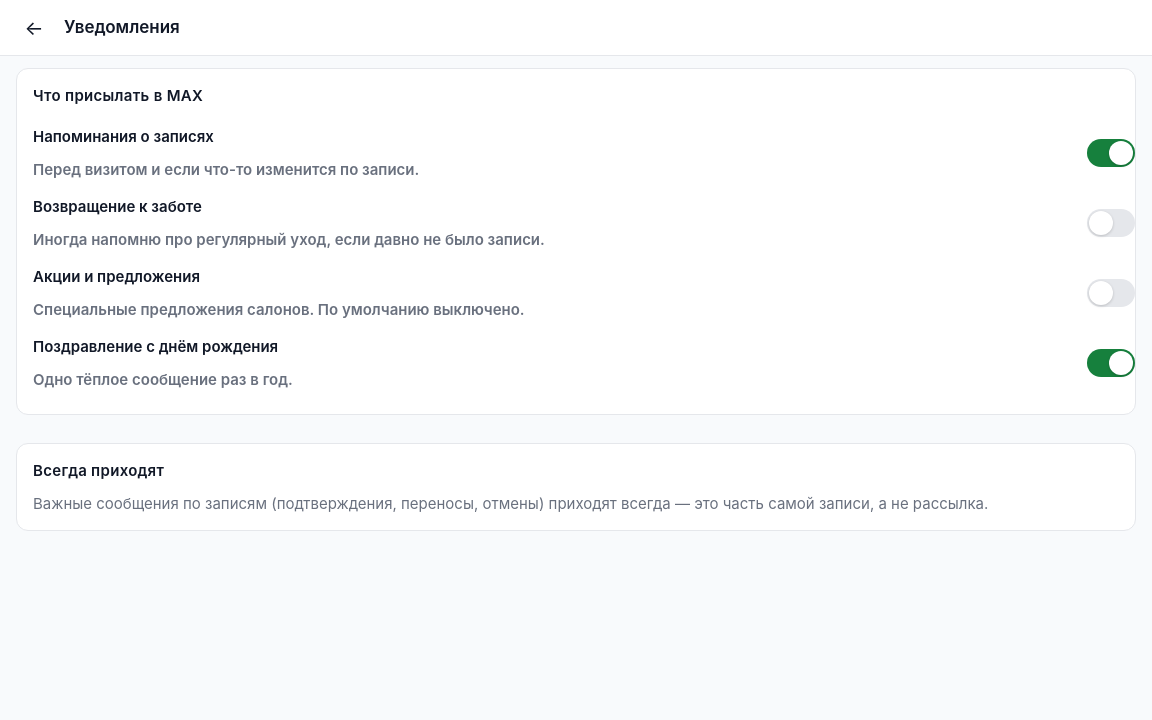
CustomerNotificationSettingsScreen (#948) › save failure reverts the switch and shows an honest snackbar
The width and height of the screenshot is (1152, 720).
Click the switch named "Акции и предложения": (1103, 293) [1079,271,1127,315]
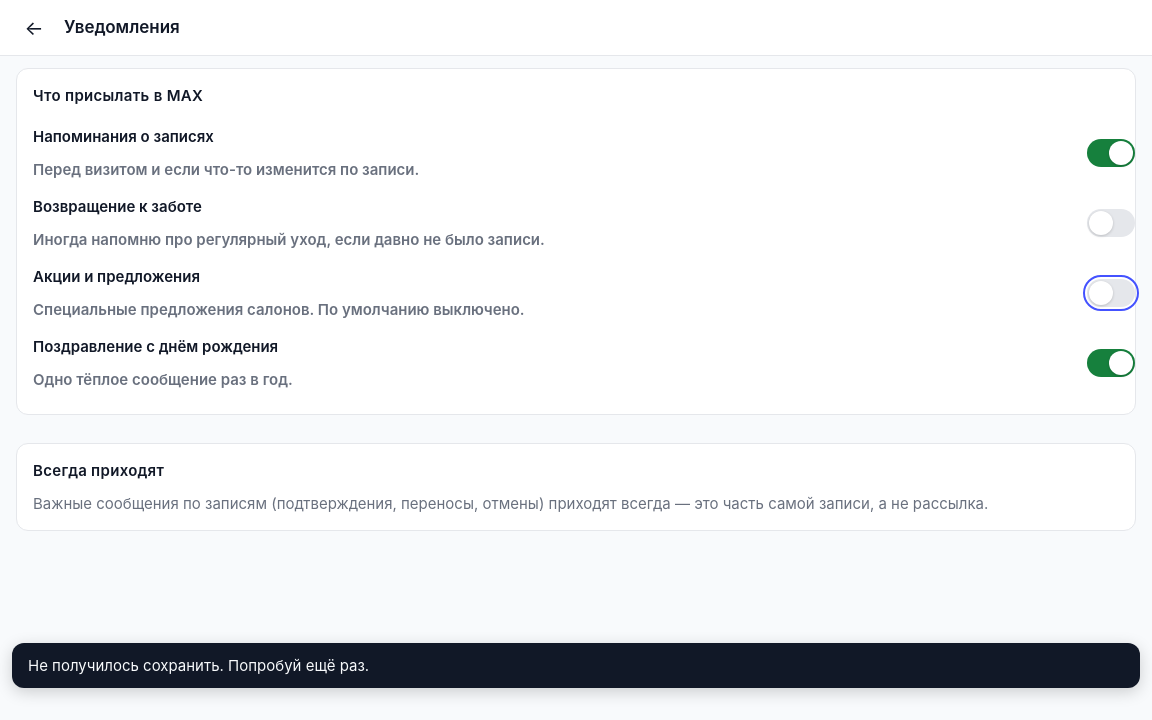
Result: the text "Не получилось сохранить. Попробуй ещё раз." is shown at [28,656,369,675]
